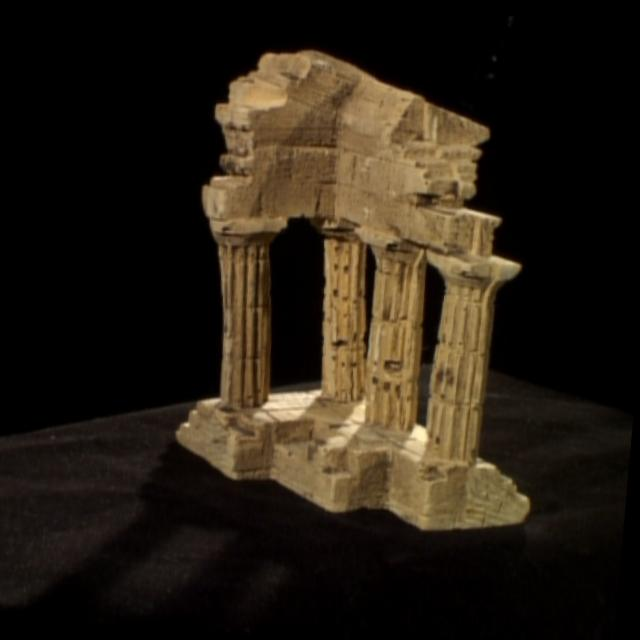Instance-Segmentation: (177, 50, 527, 529)
